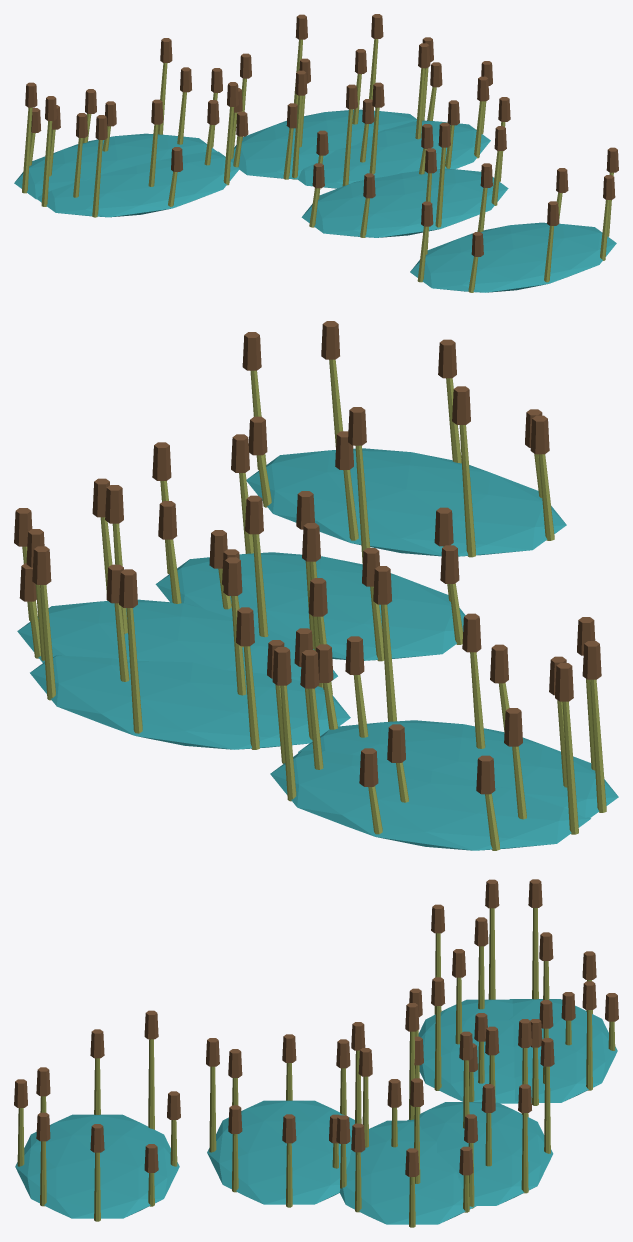
Rendered from FEATURE_MARSH_v00.fbx.
3 views of the same model, one above another, from view 1: azimuth 30°, elevation 25°; view 2: azimuth 150°, elevation 25°; view 3: azimuth 270°, elevation 25° (orthographic). The views are drawn at different scales.
Parts seen in each view (by area): view 1: Marsh_pool.005, Marsh_pool.001, Marsh_pool.003, Marsh_pool.002, Marsh_pool, Marsh_pool.004, Reed.036, Reed.028, Reed.020, Reed.014, Reed.029, Reed.031 (+2 smaller); view 2: Marsh_pool.005, Marsh_pool, Marsh_pool.004, Marsh_pool.001, Marsh_pool.002, Marsh_pool.003, Reed.028, Reed.036, Reed.043, Reed.002, Reed.031, Reed.033 (+6 smaller); view 3: Marsh_pool.005, Marsh_pool.001, Marsh_pool.002, Marsh_pool, Marsh_pool.003, Marsh_pool.004, Reed.028, Reed.036, Reed.043, Reed.002, Reed.014, Reed.031 (+2 smaller).
Part boxes in pixels (x1,y1,x2,y2): Marsh_pool.005: [410, 222, 616, 292]; Marsh_pool.001: [301, 168, 508, 237]; Marsh_pool.003: [38, 151, 239, 217]; Marsh_pool.002: [298, 120, 490, 188]; Marsh_pool: [231, 109, 416, 179]; Marsh_pool.004: [14, 133, 217, 199]; Reed.036: [22, 107, 32, 193]; Reed.028: [41, 121, 52, 206]; Reed.020: [292, 95, 302, 179]; Reed.014: [435, 147, 445, 227]; Reed.029: [92, 140, 102, 217]; Reed.031: [223, 107, 234, 185]; Marsh_pool.005: [246, 448, 566, 556]; Marsh_pool: [30, 655, 350, 749]; Marsh_pool.004: [270, 750, 590, 850]; Marsh_pool.001: [155, 552, 465, 660]; Marsh_pool.002: [17, 599, 337, 680]; Marsh_pool.003: [298, 720, 618, 817]; Reed.028: [590, 679, 606, 812]; Reed.036: [562, 701, 578, 834]; Reed.043: [459, 425, 475, 557]; Reed.002: [126, 608, 142, 733]; Reed.031: [381, 604, 396, 721]; Reed.033: [280, 685, 296, 801]; Marsh_pool.005: [15, 1114, 179, 1218]; Marsh_pool.001: [207, 1100, 354, 1204]; Marsh_pool.002: [339, 1120, 476, 1224]; Marsh_pool: [406, 1102, 553, 1205]; Marsh_pool.003: [418, 999, 517, 1103]; Marsh_pool.004: [509, 999, 617, 1102]; Reed.028: [488, 908, 495, 999]; Reed.036: [532, 908, 538, 999]; Reed.043: [148, 1039, 154, 1129]; Reed.002: [544, 1066, 550, 1153]; Reed.014: [209, 1066, 216, 1152]; Reed.031: [434, 1006, 441, 1090].
Bounding box in the file's own units: 94.11 × 24.58 × 103.
